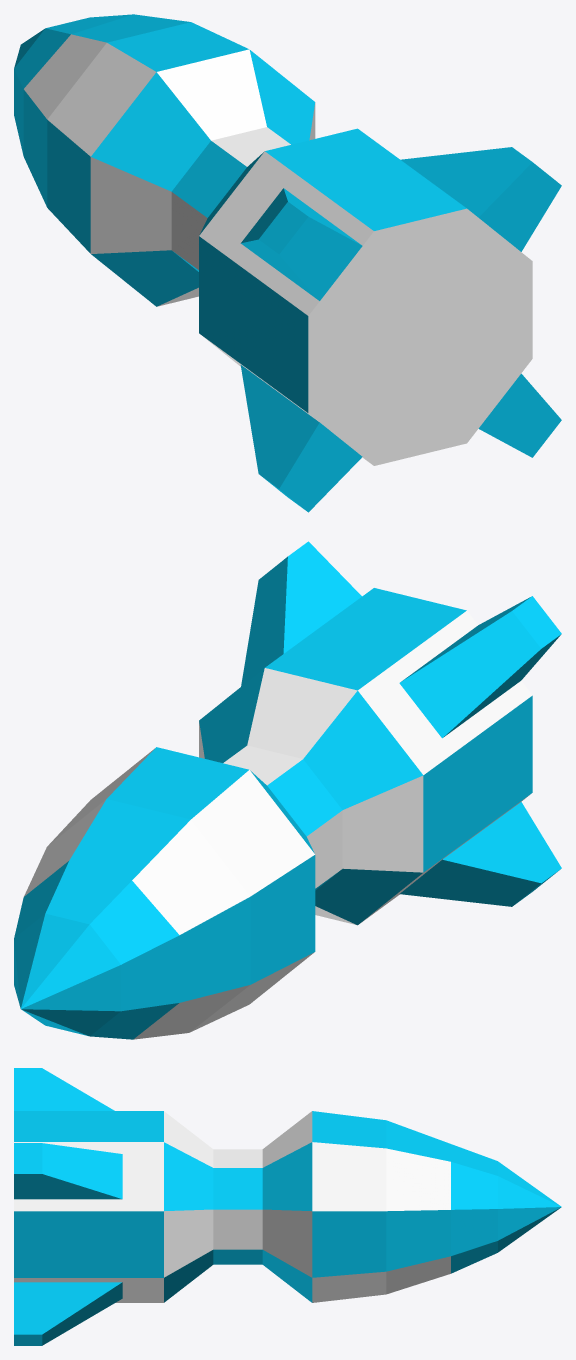
The model's file is bomb.fbx.
The picture shows the model from 3 angles, top to bottom: view 1: azimuth 30°, elevation 25°; view 2: azimuth 150°, elevation 25°; view 3: azimuth 270°, elevation 25°; orthographic projection. The views are drawn at different scales.
Parts seen in each view (by area): view 1: Bomb; view 2: Bomb; view 3: Bomb.
Part boxes in pixels (<box>): Bomb: <box>14,14,561,512</box>; Bomb: <box>14,541,561,1039</box>; Bomb: <box>14,1068,561,1345</box>.
Size of the model in its own units: 58.21 by 58.21 by 143.
